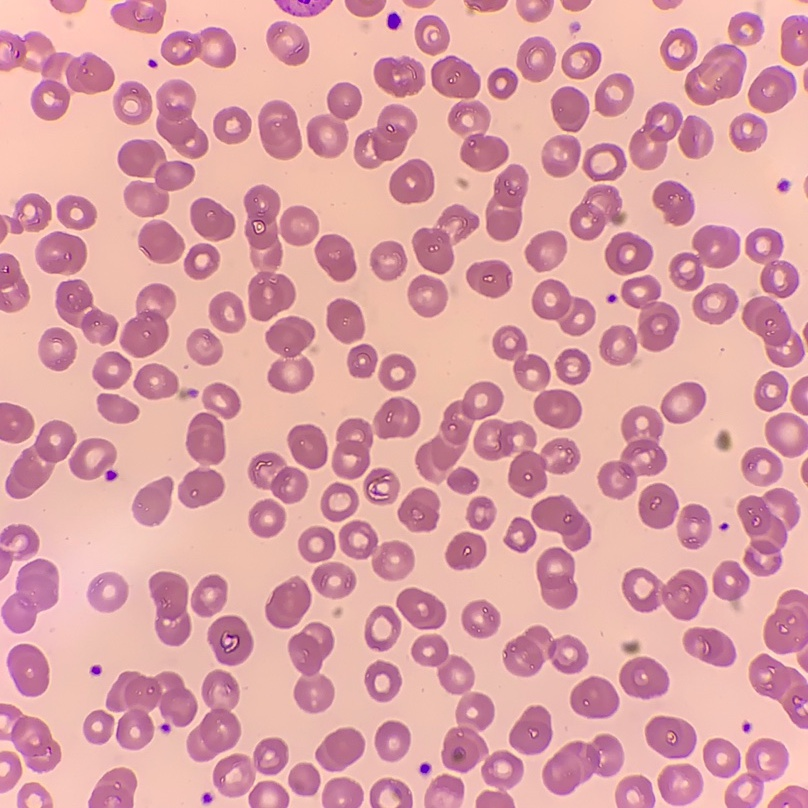RBC: (412, 635, 494, 771), (0, 30, 113, 119), (416, 382, 502, 481), (474, 420, 579, 496), (685, 12, 762, 104), (106, 671, 196, 749), (244, 185, 294, 320), (598, 406, 666, 498), (118, 140, 193, 216), (630, 103, 712, 169), (5, 421, 75, 498), (738, 488, 799, 575), (543, 734, 623, 794), (187, 671, 240, 761), (670, 225, 739, 290), (413, 205, 478, 273), (213, 738, 288, 796), (622, 568, 706, 619), (340, 521, 413, 579), (749, 655, 807, 728), (725, 739, 787, 807), (743, 296, 803, 366), (1, 559, 58, 632), (504, 626, 587, 676), (622, 276, 678, 350), (0, 704, 60, 771), (307, 83, 361, 157), (289, 622, 333, 712), (121, 284, 175, 357), (156, 80, 207, 157), (354, 105, 416, 167), (56, 280, 116, 343), (266, 316, 314, 392), (746, 228, 798, 297), (493, 326, 549, 390), (532, 280, 594, 335), (486, 165, 527, 240), (532, 496, 590, 549), (149, 572, 190, 645), (570, 185, 625, 239), (161, 27, 235, 67), (248, 452, 307, 502), (764, 590, 807, 653), (258, 101, 301, 158), (332, 418, 372, 478), (537, 547, 576, 608), (0, 194, 51, 238), (266, 578, 310, 628), (208, 615, 252, 664), (7, 644, 48, 696), (749, 66, 795, 112), (135, 364, 195, 399), (645, 716, 695, 758), (36, 232, 86, 273), (186, 413, 225, 465), (509, 706, 551, 754), (316, 728, 364, 770), (431, 56, 480, 97), (397, 588, 445, 629), (620, 657, 668, 698), (374, 57, 424, 96), (0, 525, 38, 576), (684, 628, 735, 666), (138, 220, 183, 263), (70, 438, 116, 480), (605, 233, 652, 274), (571, 677, 618, 718), (390, 159, 433, 203), (133, 478, 173, 525), (190, 198, 234, 240), (315, 234, 355, 280), (88, 768, 135, 807), (765, 413, 807, 456), (661, 382, 705, 423), (658, 764, 702, 805), (374, 397, 419, 437), (178, 468, 224, 507), (534, 390, 581, 428), (111, 0, 165, 33), (267, 21, 308, 64), (693, 283, 737, 323), (653, 181, 693, 224), (398, 488, 438, 531), (288, 424, 327, 468), (639, 484, 678, 528), (517, 37, 555, 81), (461, 134, 507, 170), (113, 81, 151, 124), (551, 87, 588, 131), (0, 253, 28, 311), (466, 260, 511, 296), (595, 74, 633, 116), (327, 299, 364, 342), (713, 561, 748, 606), (526, 231, 566, 270), (408, 276, 447, 316), (542, 135, 580, 176), (583, 143, 625, 180), (365, 606, 400, 650), (88, 573, 128, 611), (39, 328, 75, 370), (280, 206, 318, 245), (482, 751, 522, 788), (742, 448, 781, 485), (446, 532, 485, 569), (191, 575, 226, 616), (313, 563, 355, 597), (678, 504, 710, 548), (703, 739, 740, 777), (370, 241, 406, 280), (661, 29, 696, 69), (365, 661, 400, 701), (462, 600, 499, 637), (562, 42, 600, 78), (600, 326, 636, 364), (321, 483, 357, 521), (209, 293, 244, 332), (375, 721, 410, 760), (213, 107, 250, 143), (93, 352, 130, 388), (448, 101, 489, 133), (730, 114, 766, 150), (379, 354, 415, 390), (0, 403, 33, 442), (781, 15, 807, 64), (249, 500, 284, 536), (203, 383, 240, 417), (364, 468, 398, 504), (415, 16, 448, 53), (57, 196, 95, 228), (755, 372, 787, 410), (616, 775, 654, 807), (187, 329, 221, 364), (299, 527, 334, 561), (97, 394, 138, 423), (322, 778, 363, 807), (370, 778, 411, 807), (184, 244, 218, 278), (556, 349, 590, 383), (249, 781, 288, 807), (83, 710, 113, 743), (289, 763, 319, 795), (506, 518, 535, 551), (348, 344, 376, 377), (467, 497, 494, 529), (0, 751, 21, 792), (488, 68, 516, 98), (17, 783, 52, 807), (277, 0, 329, 16), (430, 775, 463, 799), (516, 0, 553, 21), (770, 786, 807, 807), (448, 468, 477, 493), (345, 0, 384, 16), (791, 377, 807, 414), (476, 791, 513, 807), (51, 0, 84, 12), (467, 0, 505, 10), (562, 0, 589, 10), (716, 432, 730, 450), (425, 794, 443, 807), (623, 641, 639, 654), (655, 0, 679, 8), (387, 14, 400, 28), (798, 652, 807, 668), (407, 0, 429, 6), (801, 462, 807, 480), (779, 180, 789, 190), (420, 763, 429, 774), (202, 794, 210, 803), (91, 666, 99, 674), (161, 724, 169, 732)
